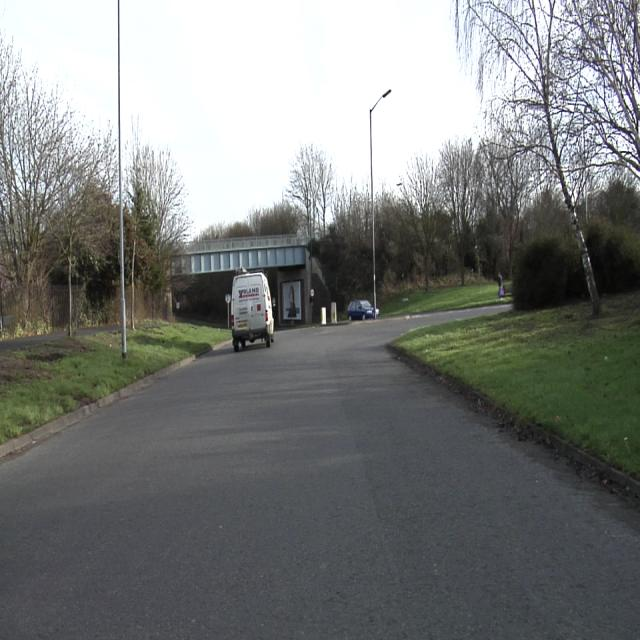Car: (348, 300, 374, 320)
Road: (0, 307, 640, 638)
Tree: (0, 35, 119, 333), (124, 128, 190, 326), (288, 145, 372, 292)
Truck_Bus: (230, 272, 274, 352)
